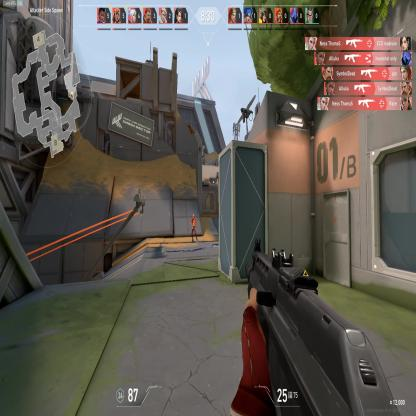enemy: (190, 213, 198, 243)
